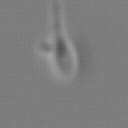normal: (47, 1, 70, 34)
